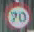Speed limit: (3, 1, 33, 30)
